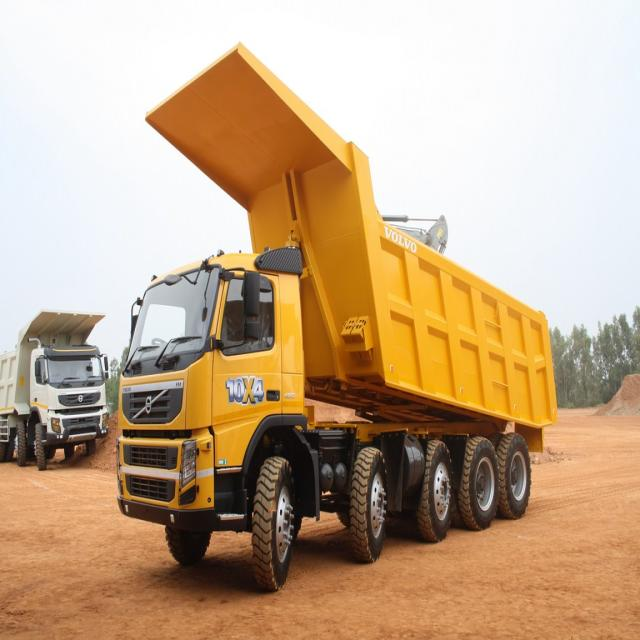truck: (118, 45, 558, 590), (0, 309, 109, 469)
